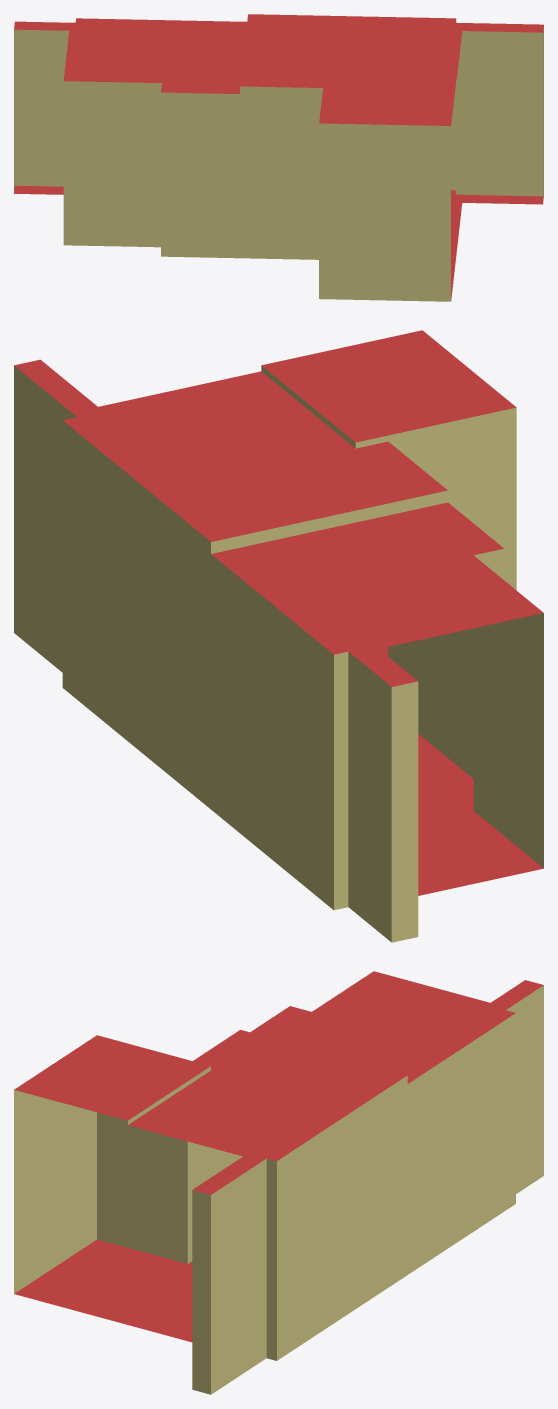
The picture shows the model from 3 angles, top to bottom: view 1: azimuth 30°, elevation 25°; view 2: azimuth 150°, elevation 25°; view 3: azimuth 270°, elevation 25°; orthographic projection. The views are drawn at different scales.
Bounding box in the file's own units: 18.56 × 17.86 × 7.59.
